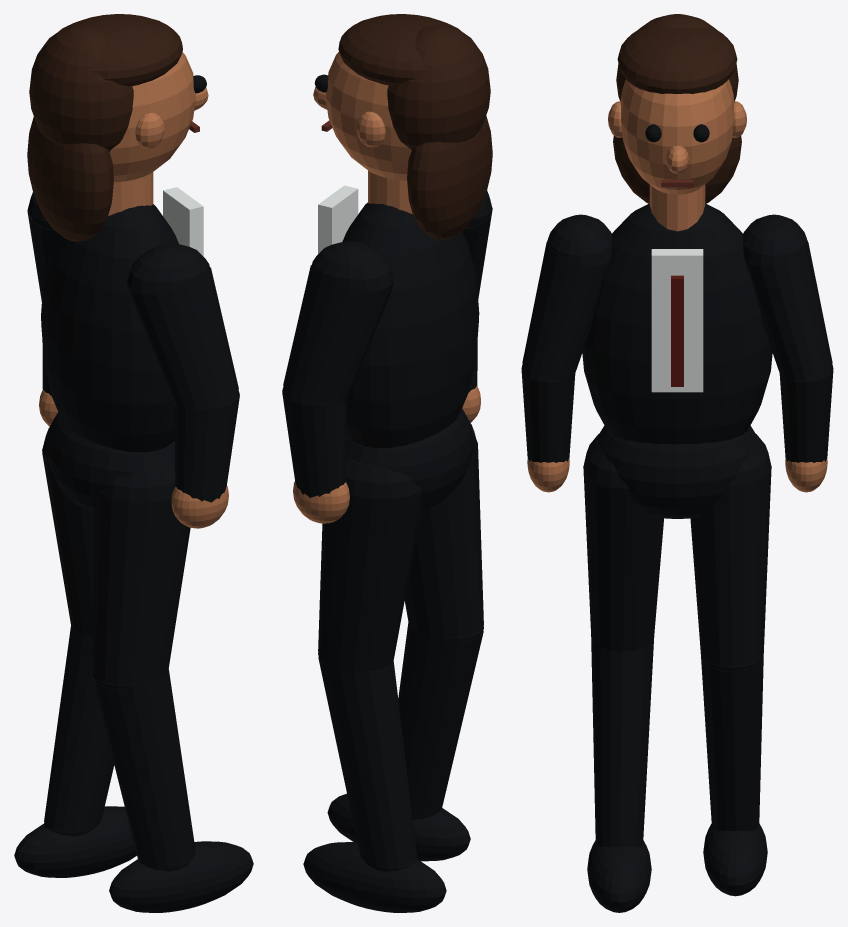
The model's file is person_09.dae.
The picture shows the model from 3 angles, left to right: view 1: azimuth 30°, elevation 25°; view 2: azimuth 150°, elevation 25°; view 3: azimuth 270°, elevation 25°; orthographic projection. The views are drawn at different scales.
Visible parts, largest first — view 1: part0node, part4node, part3node, part1node; view 2: part0node, part4node, part3node, part1node; view 3: part0node, part3node, part4node, part1node, part2node.
Boxes of the visible parts, x1,y1,x2,y2 form: part0node: (14, 75, 253, 912); part4node: (27, 14, 182, 241); part3node: (39, 52, 228, 528); part1node: (163, 187, 203, 256); part0node: (282, 74, 492, 912); part4node: (338, 14, 492, 239); part3node: (293, 52, 480, 523); part1node: (318, 185, 358, 253); part0node: (521, 124, 833, 912); part3node: (527, 79, 827, 492); part4node: (613, 14, 741, 203); part1node: (651, 249, 703, 392); part2node: (671, 275, 683, 386).
Bounding box in the file's own units: 0.033 × 0.05 × 0.15.
